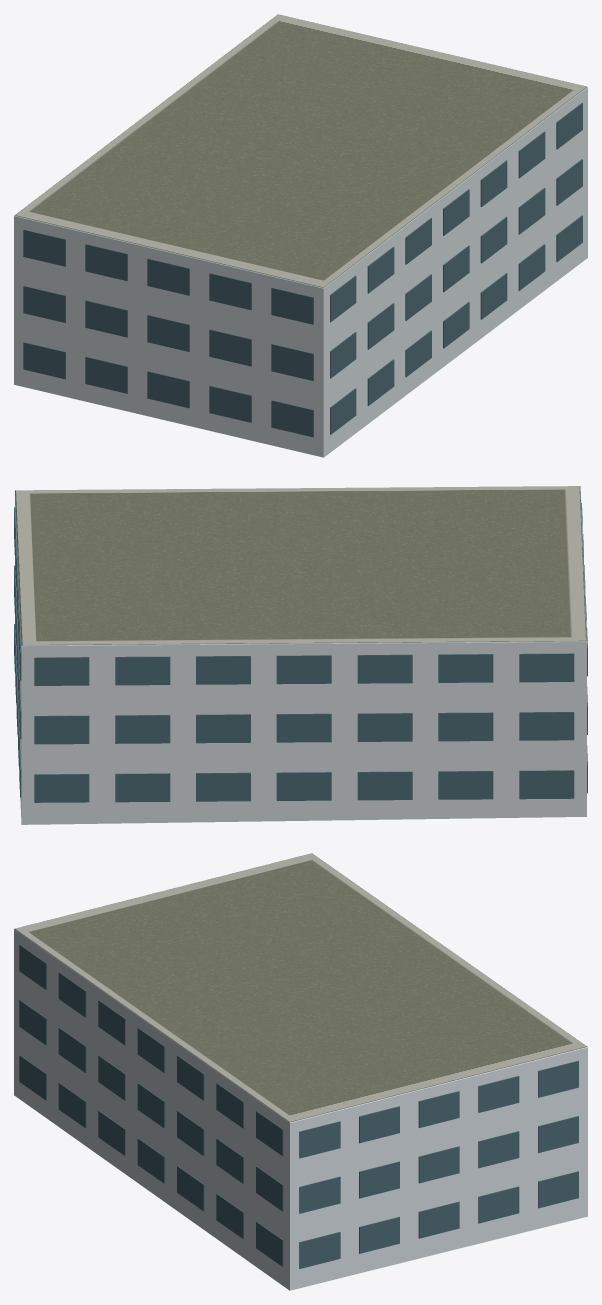
File: fragments.glb
The picture shows the model from 3 angles, top to bottom: view 1: azimuth 30°, elevation 25°; view 2: azimuth 150°, elevation 25°; view 3: azimuth 270°, elevation 25°; orthographic projection. The views are drawn at different scales.
Parts seen in each view (by area): view 1: SM_yeongseon_Fragment_028, SM_yeongseon_Fragment_051, SM_yeongseon_Fragment_012, SM_yeongseon_Fragment_000, SM_yeongseon_Fragment_057, SM_yeongseon_Fragment_006, SM_yeongseon_Fragment_026, SM_yeongseon_Fragment_018, SM_yeongseon_Fragment_022, SM_yeongseon_Fragment_013, SM_yeongseon_Fragment_045, SM_yeongseon_Fragment_032 (+25 smaller); view 2: SM_yeongseon_Fragment_032, SM_yeongseon_Fragment_062, SM_yeongseon_Fragment_015, SM_yeongseon_Fragment_002, SM_yeongseon_Fragment_052, SM_yeongseon_Fragment_054, SM_yeongseon_Fragment_046, SM_yeongseon_Fragment_044, SM_yeongseon_Fragment_005, SM_yeongseon_Fragment_011, SM_yeongseon_Fragment_049, SM_yeongseon_Fragment_013 (+22 smaller); view 3: SM_yeongseon_Fragment_001, SM_yeongseon_Fragment_037, SM_yeongseon_Fragment_009, SM_yeongseon_Fragment_033, SM_yeongseon_Fragment_026, SM_yeongseon_Fragment_036, SM_yeongseon_Fragment_018, SM_yeongseon_Fragment_045, SM_yeongseon_Fragment_013, SM_yeongseon_Fragment_050, SM_yeongseon_Fragment_000, SM_yeongseon_Fragment_007 (+27 smaller).
Part boxes in pixels (<box>): SM_yeongseon_Fragment_028: <box>143,235,262,379</box>; SM_yeongseon_Fragment_051: <box>14,286,127,399</box>; SM_yeongseon_Fragment_012: <box>54,203,205,318</box>; SM_yeongseon_Fragment_000: <box>241,238,372,330</box>; SM_yeongseon_Fragment_057: <box>249,309,360,429</box>; SM_yeongseon_Fragment_006: <box>116,348,256,441</box>; SM_yeongseon_Fragment_026: <box>322,184,446,292</box>; SM_yeongseon_Fragment_018: <box>366,156,489,292</box>; SM_yeongseon_Fragment_022: <box>233,362,367,457</box>; SM_yeongseon_Fragment_013: <box>349,62,483,124</box>; SM_yeongseon_Fragment_045: <box>473,85,582,188</box>; SM_yeongseon_Fragment_032: <box>14,179,98,295</box>; SM_yeongseon_Fragment_032: <box>464,615,587,760</box>; SM_yeongseon_Fragment_062: <box>170,655,331,800</box>; SM_yeongseon_Fragment_015: <box>97,609,250,730</box>; SM_yeongseon_Fragment_002: <box>328,662,493,779</box>; SM_yeongseon_Fragment_052: <box>276,608,434,718</box>; SM_yeongseon_Fragment_054: <box>54,713,170,823</box>; SM_yeongseon_Fragment_046: <box>390,572,516,682</box>; SM_yeongseon_Fragment_044: <box>19,655,111,762</box>; SM_yeongseon_Fragment_005: <box>160,737,299,822</box>; SM_yeongseon_Fragment_011: <box>438,759,586,818</box>; SM_yeongseon_Fragment_049: <box>296,758,464,820</box>; SM_yeongseon_Fragment_013: <box>45,521,192,586</box>; SM_yeongseon_Fragment_001: <box>446,1021,587,1139</box>; SM_yeongseon_Fragment_037: <box>414,1050,519,1189</box>; SM_yeongseon_Fragment_009: <box>256,1111,359,1234</box>; SM_yeongseon_Fragment_033: <box>269,1190,399,1290</box>; SM_yeongseon_Fragment_026: <box>66,964,197,1073</box>; SM_yeongseon_Fragment_036: <box>308,1077,430,1166</box>; SM_yeongseon_Fragment_018: <box>126,997,236,1134</box>; SM_yeongseon_Fragment_045: <box>216,1067,320,1174</box>; SM_yeongseon_Fragment_013: <box>298,1025,443,1079</box>; SM_yeongseon_Fragment_050: <box>166,1023,278,1104</box>; SM_yeongseon_Fragment_000: <box>14,908,135,1001</box>; SM_yeongseon_Fragment_007: <box>219,979,357,1036</box>.
Size of the model in its own units: 2.2 by 0.6465 by 1.98.
5 materials, 1 textured.
